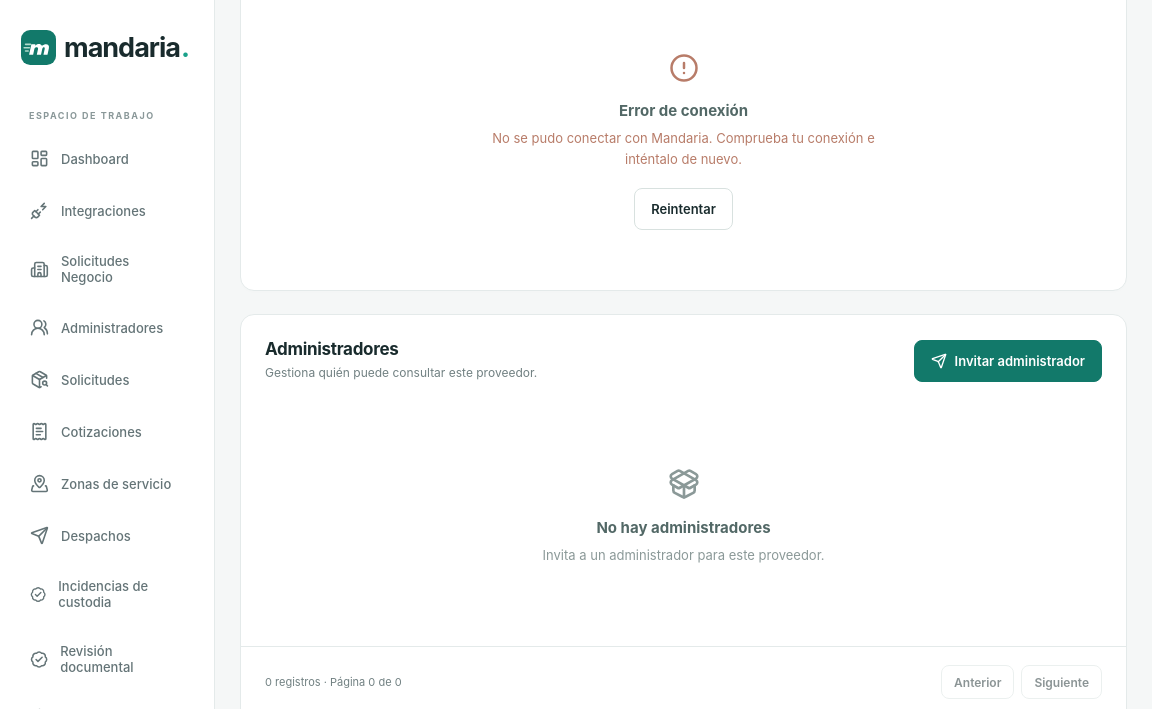
Test case: SUPER_ADMIN accounts and admin invitations › shows a clear invite error for USER_ALREADY_ACTIVE (409)
The width and height of the screenshot is (1152, 709).
(page scrolled)
Step 1. Click the button "Invitar administrador" → point(1008, 361), box x1=914 y1=340 x2=1102 y2=382
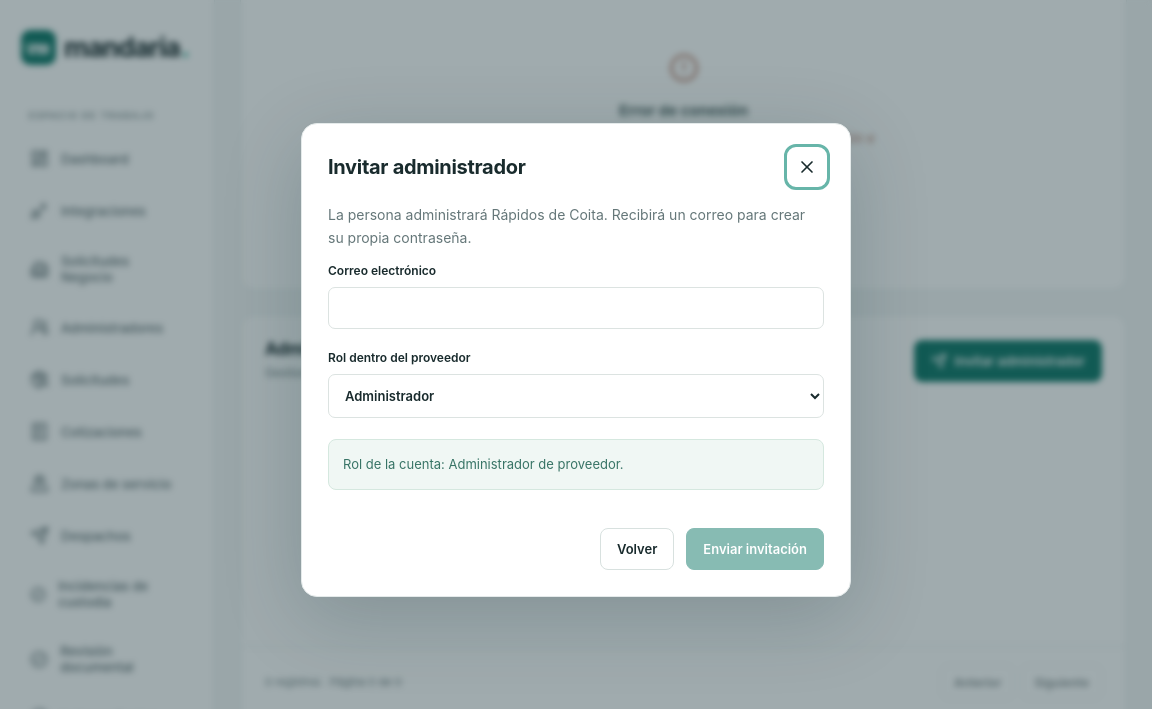
Step 2. Type "ana@example.test" into the field labelled "Correo electrónico" → point(576, 308), box x1=328 y1=287 x2=824 y2=329
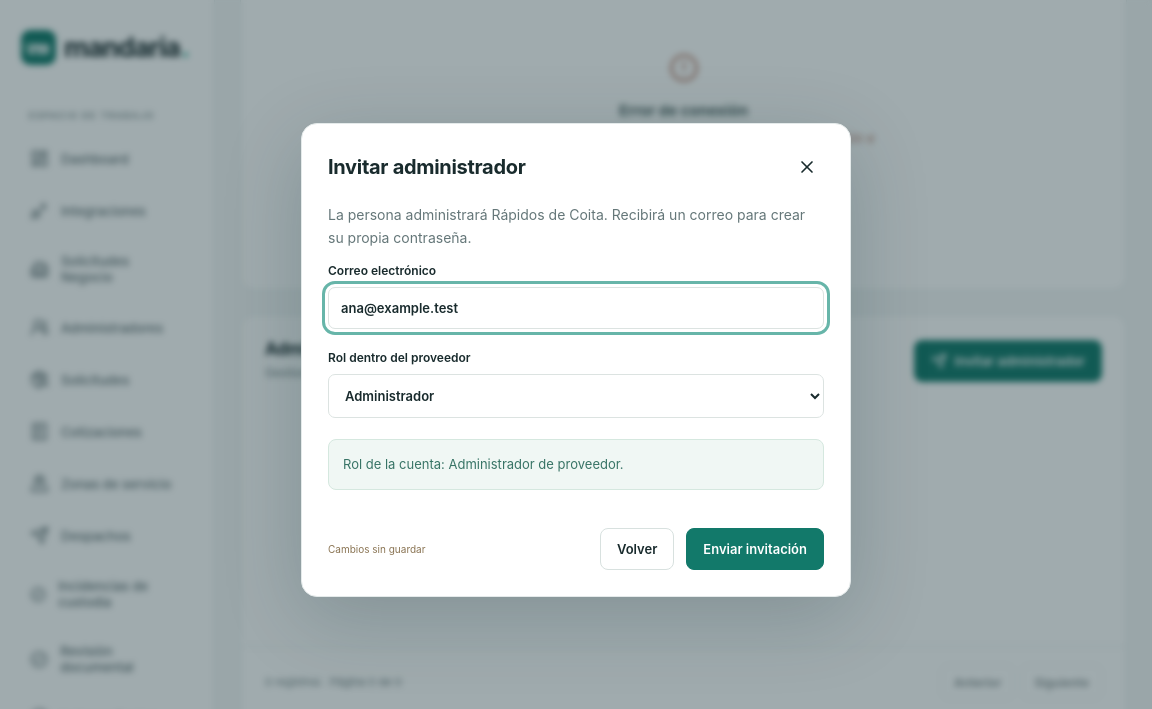
Step 3. Click the button "Enviar invitación" → point(755, 549), box x1=686 y1=528 x2=824 y2=570
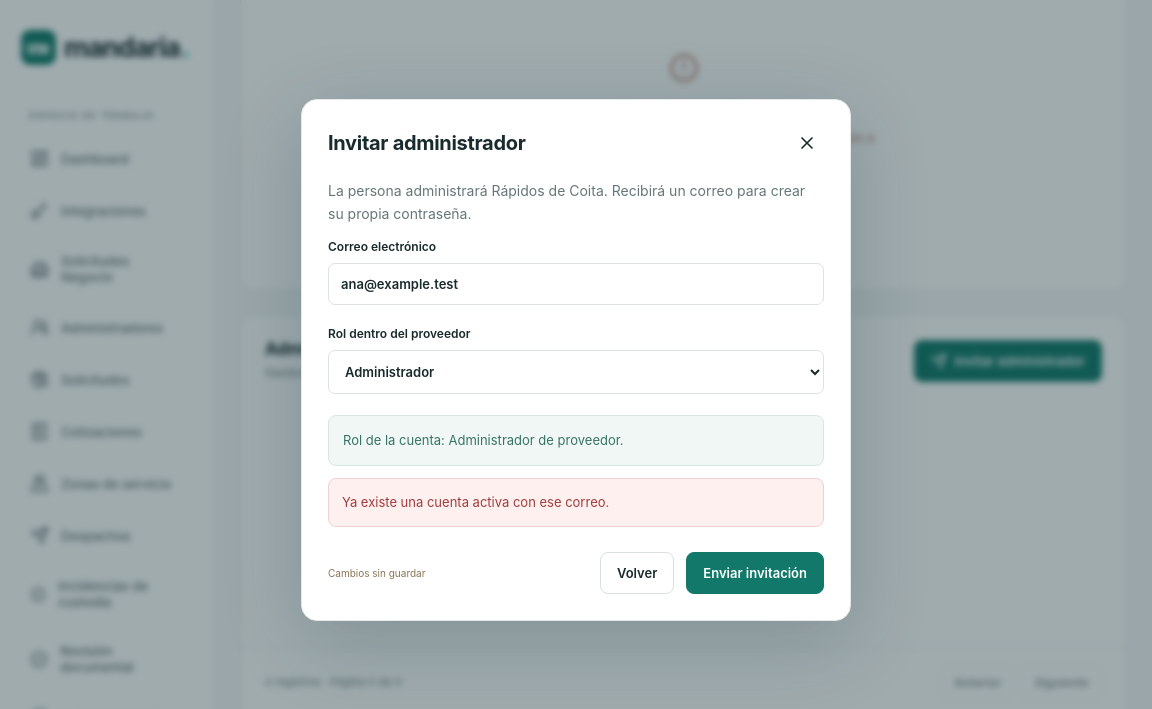
Expected: the message does not show "raw internal detail", x1=328 y1=478 x2=824 y2=527
Expected: the message shows "Ya existe una cuenta activa", x1=342 y1=494 x2=609 y2=510
